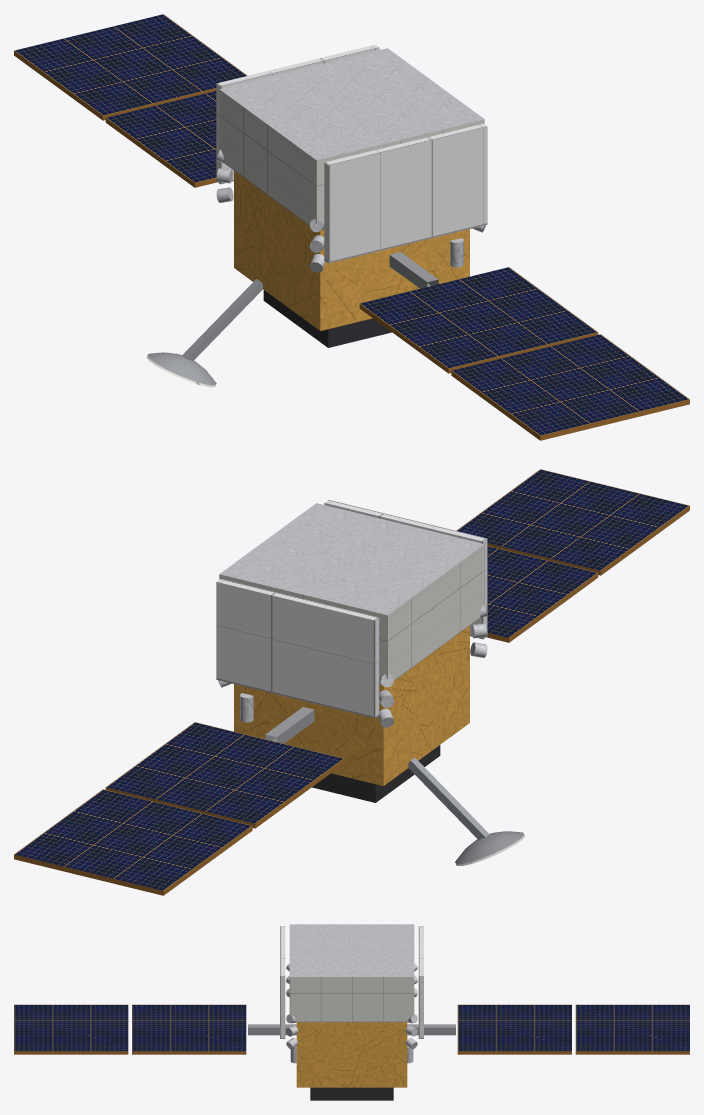
File: fermi.glb
3 renders of one model, top to bottom at view 1: azimuth 30°, elevation 25°; view 2: azimuth 150°, elevation 25°; view 3: azimuth 270°, elevation 25°, orthographic. The views are drawn at different scales.
Parts seen in each view (by area): view 1: fermi; view 2: fermi; view 3: fermi.
Part boxes in pixels (x1,y1,x2,y2): fermi: (14, 14, 689, 440); fermi: (14, 469, 689, 895); fermi: (14, 924, 689, 1100).
Bounding box in the file's own units: 2.91 × 2.62 × 9.75.
Materials: 8 (5 with a texture image).
